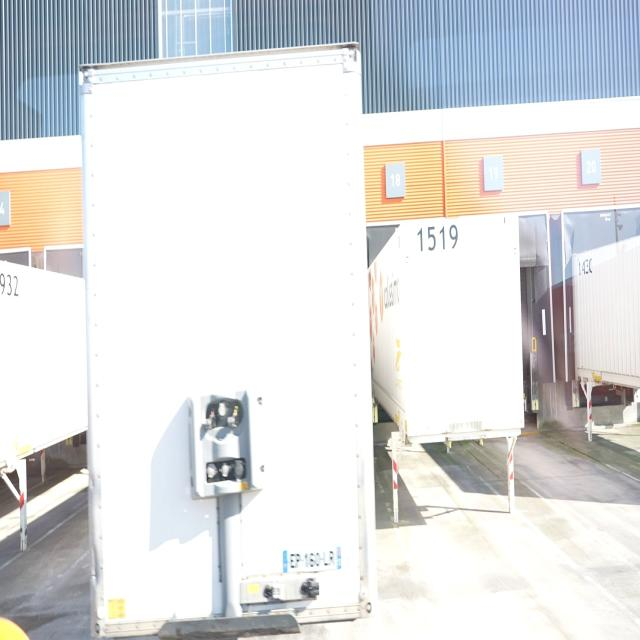Code: (413, 220, 462, 260)
